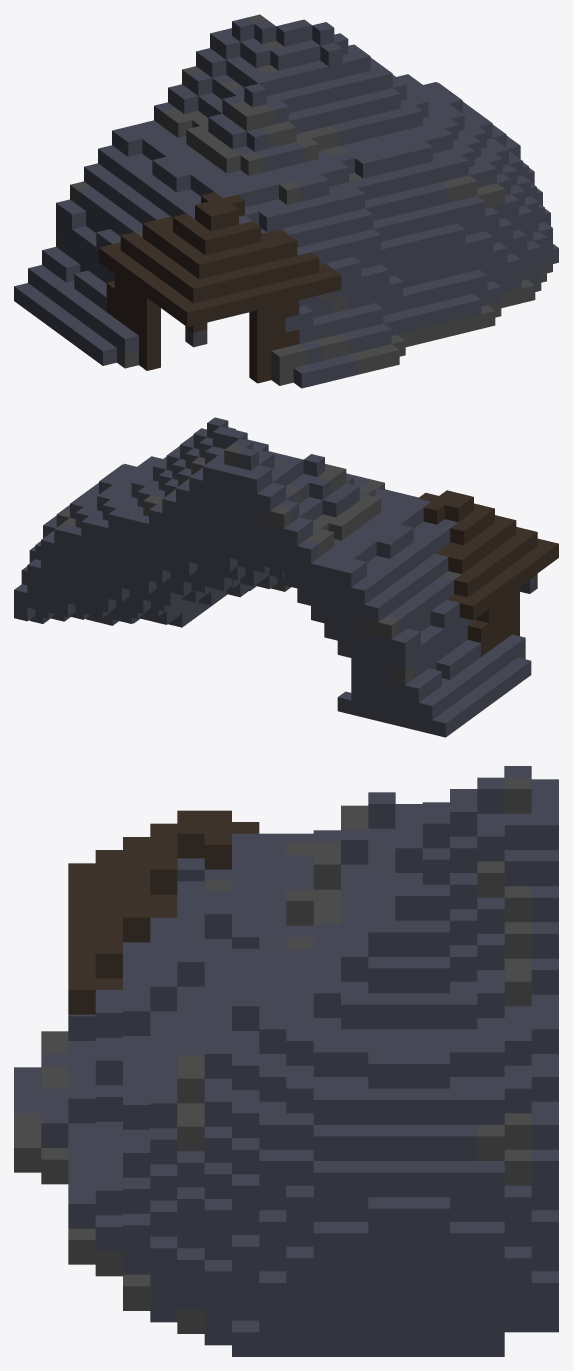
Rendered from map_cdg_sculpted_cestlabonne-1.obj.
3 renders of one model, top to bottom at view 1: azimuth 30°, elevation 25°; view 2: azimuth 150°, elevation 25°; view 3: azimuth 270°, elevation 25°, orthographic. The views are drawn at different scales.
Parts seen in each view (by area): view 1: map_cdg_sculpted_cestlabonne-1; view 2: map_cdg_sculpted_cestlabonne-1; view 3: map_cdg_sculpted_cestlabonne-1.
Boxes of the visible parts, x1,y1,x2,y2 form: map_cdg_sculpted_cestlabonne-1: [14, 14, 558, 388]; map_cdg_sculpted_cestlabonne-1: [14, 417, 558, 737]; map_cdg_sculpted_cestlabonne-1: [14, 766, 558, 1356].
Size of the model in its own units: 32 by 16 by 20.
Materials: 1 (1 with a texture image).
